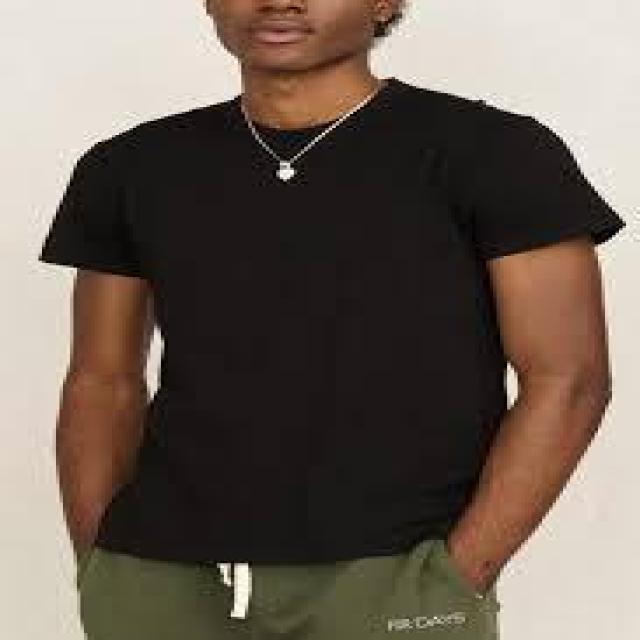Tshirt: (42, 76, 626, 566)
